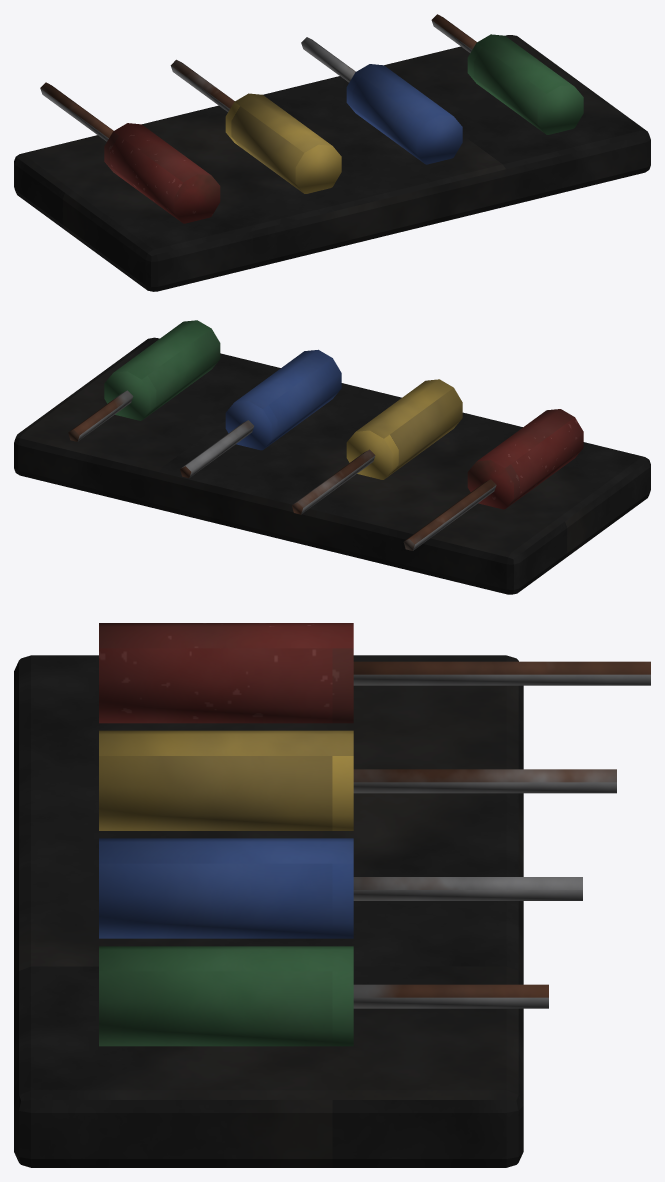
The model's file is P11_screwdriver_set.glb.
3 views of the same model, one above another, from view 1: azimuth 30°, elevation 25°; view 2: azimuth 150°, elevation 25°; view 3: azimuth 270°, elevation 25° (orthographic). The views are drawn at different scales.
Parts seen in each view (by area): view 1: P11_screwdriver_set; view 2: P11_screwdriver_set; view 3: P11_screwdriver_set.
Boxes of the visible parts, bbox=[...] form: P11_screwdriver_set: bbox=[14, 14, 650, 291]; P11_screwdriver_set: bbox=[14, 320, 650, 594]; P11_screwdriver_set: bbox=[14, 623, 650, 1167].
Bounding box in the file's own units: 0.25 × 0.042 × 0.15.
6 materials, 6 textured.
